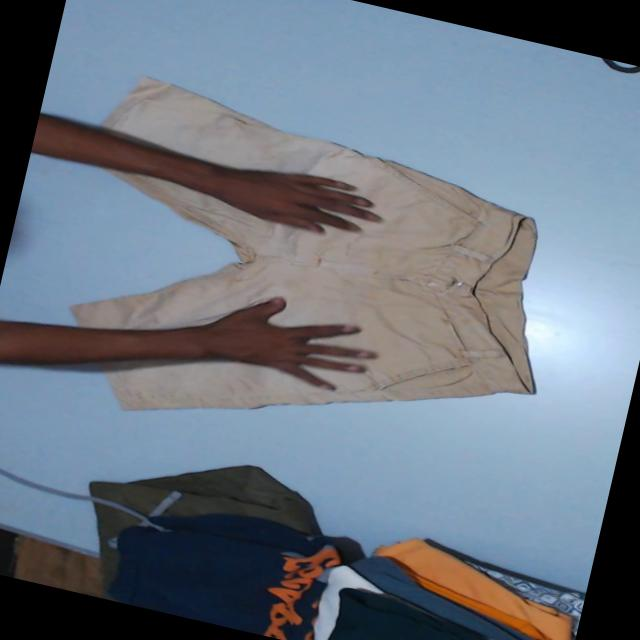new-garment: (72, 77, 536, 409)
